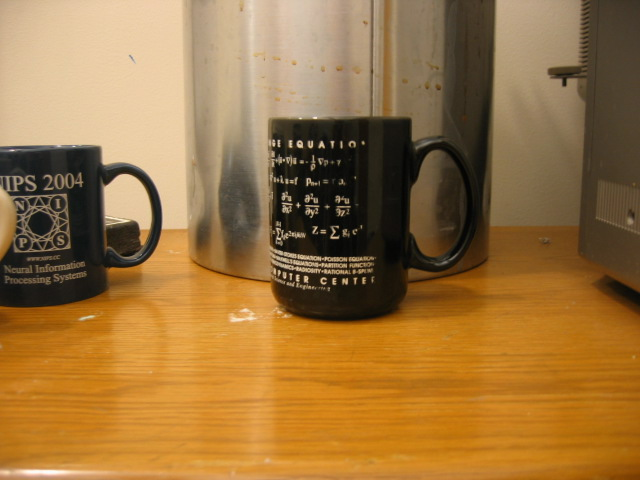mug: (267, 115, 476, 324), (1, 142, 165, 310)
